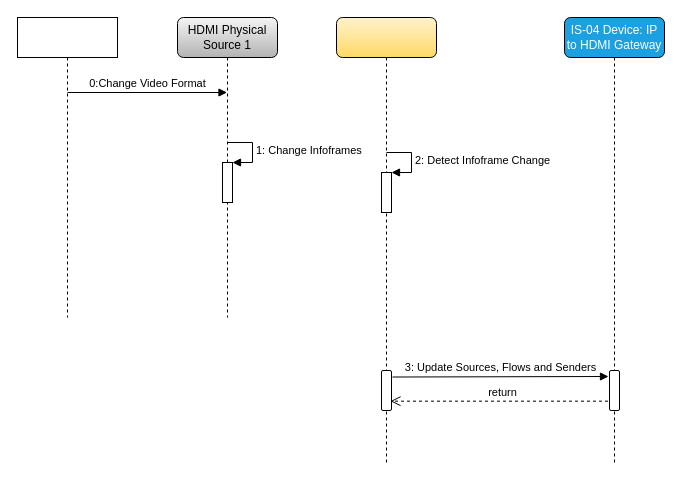
Some shapes in this 682 by 480 pixel diagram are drawn without their labels. Each missing label, with the box of its shape:
Computer User: (16, 16, 118, 318)
IS-XX: IPMX Controller: (336, 16, 436, 462)
